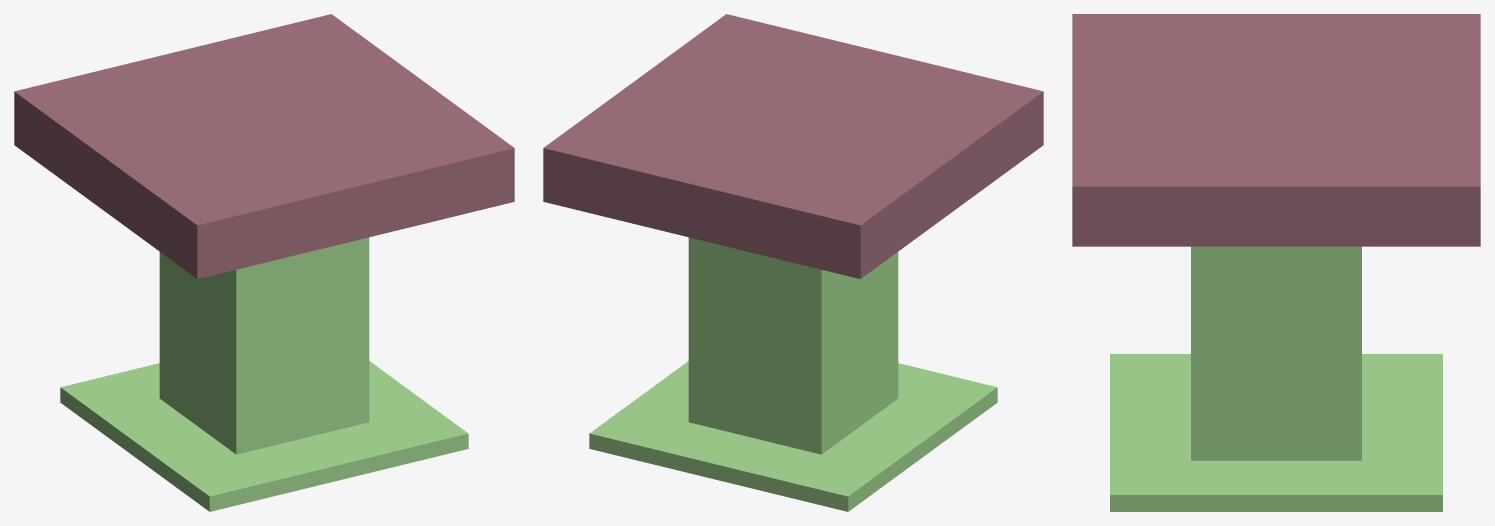
The model's file is TableFirstScene.fbx.
3 views of the same model, side by side, from view 1: azimuth 30°, elevation 25°; view 2: azimuth 150°, elevation 25°; view 3: azimuth 270°, elevation 25° (orthographic). The views are drawn at different scales.
Parts seen in each view (by area): view 1: Cube; view 2: Cube; view 3: Cube.
Boxes of the visible parts, x1,y1,x2,y2 form: Cube: [14, 14, 514, 511]; Cube: [543, 14, 1043, 511]; Cube: [1072, 14, 1480, 511].
Bounding box in the file's own units: 200 × 184 × 200.
